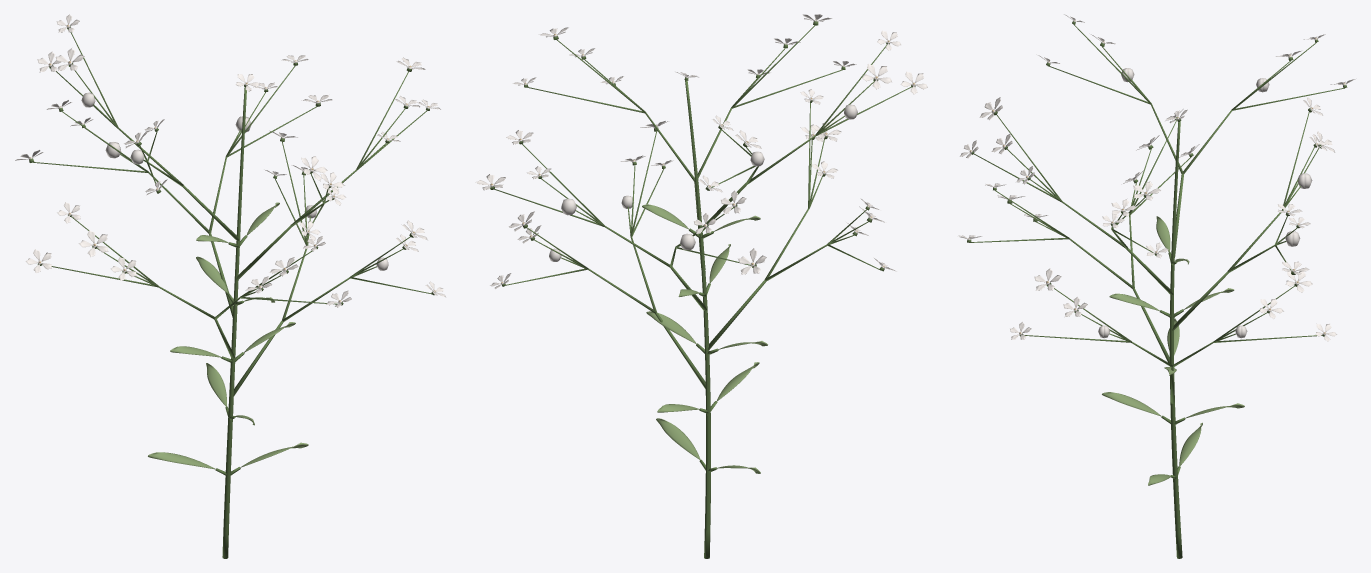
Rendered from gypsophila-rare-v2.glb.
3 renders of one model, left to right at view 1: azimuth 30°, elevation 25°; view 2: azimuth 150°, elevation 25°; view 3: azimuth 270°, elevation 25°, orthographic. The views are drawn at different scales.
Parts seen in each view (by area): view 1: gypsophila-rare-v2-stem, gypsophila-rare-v2-petal, gypsophila-rare-v2-leaf; view 2: gypsophila-rare-v2-stem, gypsophila-rare-v2-petal, gypsophila-rare-v2-leaf; view 3: gypsophila-rare-v2-stem, gypsophila-rare-v2-petal, gypsophila-rare-v2-leaf.
Part boxes in pixels (box(x1,y1,x2,y2)): gypsophila-rare-v2-stem: box(29, 26, 434, 558); gypsophila-rare-v2-petal: box(15, 14, 445, 307); gypsophila-rare-v2-leaf: box(148, 202, 308, 469); gypsophila-rare-v2-stem: box(490, 20, 915, 558); gypsophila-rare-v2-petal: box(476, 14, 927, 289); gypsophila-rare-v2-leaf: box(642, 204, 767, 473); gypsophila-rare-v2-stem: box(967, 21, 1347, 558); gypsophila-rare-v2-petal: box(958, 14, 1355, 341); gypsophila-rare-v2-leaf: box(1102, 216, 1244, 485).
Size of the model in its own units: 1.38 by 1.7 by 1.26.
